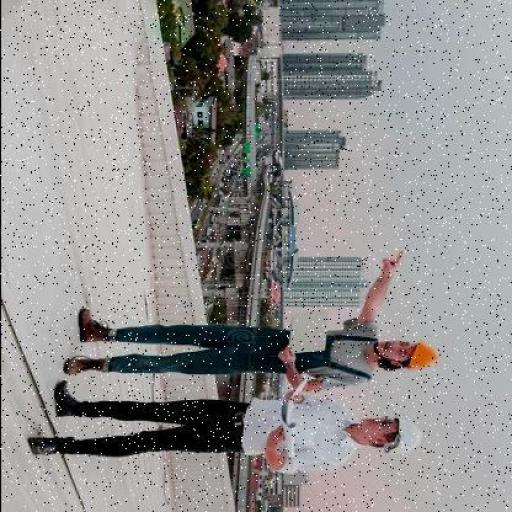person: (56, 290, 454, 394), (29, 379, 423, 474)
safety_shoe: (75, 312, 118, 340), (60, 353, 108, 377)
